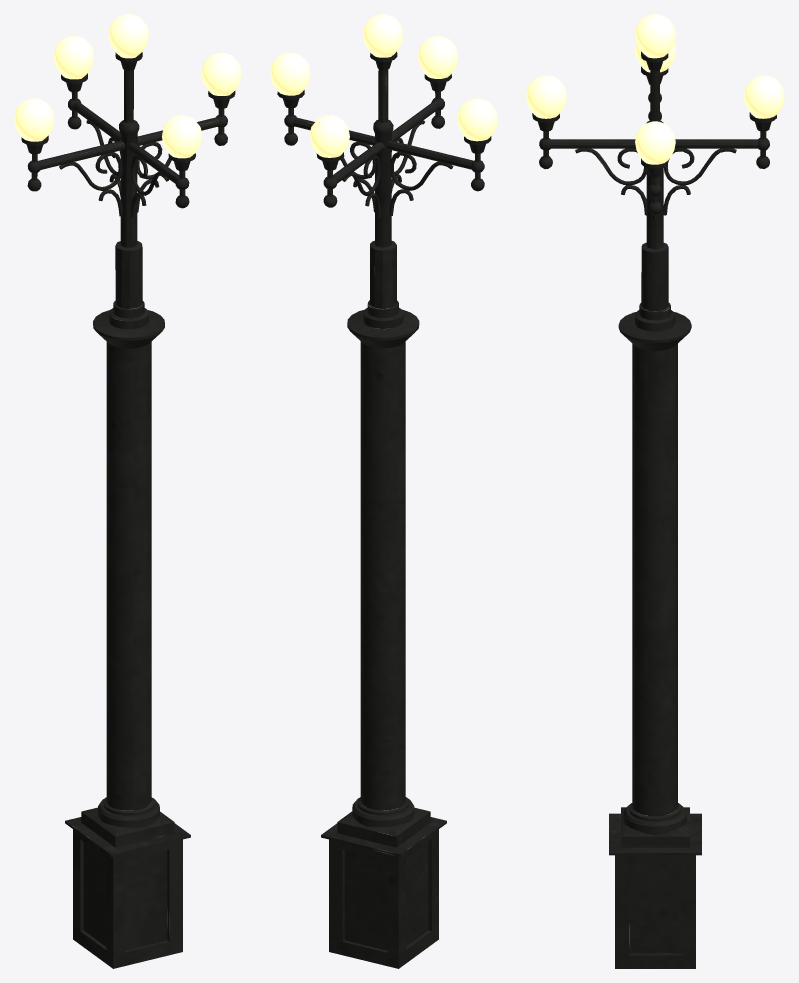
File: KhabarovskNaberLamp.fbx
3 views of the same model, side by side, from view 1: azimuth 30°, elevation 25°; view 2: azimuth 150°, elevation 25°; view 3: azimuth 270°, elevation 25° (orthographic).
Visible parts, largest first — view 1: fonar01.001; view 2: fonar01.001; view 3: fonar01.001.
Part boxes in pixels (<box>): fonar01.001: <box>14,14,241,968</box>; fonar01.001: <box>270,14,497,968</box>; fonar01.001: <box>526,14,784,968</box>.
Size of the model in its own units: 1090 by 4351 by 1090.
Materials: 1 (1 with a texture image).
